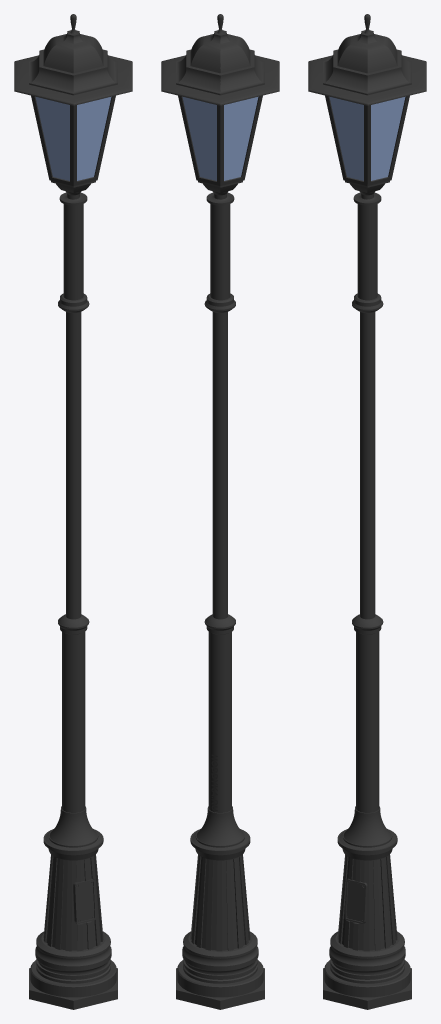
File: Streetlight.dae
3 renders of one model, left to right at view 1: azimuth 30°, elevation 25°; view 2: azimuth 150°, elevation 25°; view 3: azimuth 330°, elevation 25°, orthographic.
Parts seen in each view (by area): view 1: Group_3 (×5), group_1 (×7), group_6, group_5, group_3, group_7, group_4, group_2 (×2); view 2: Group_3 (×5), group_1 (×7), group_6, group_3, group_5, group_7, group_4; view 3: Group_3 (×5), group_1 (×7), group_6, group_5, group_3, group_7, group_4, group_2 (×2).
Boxes of the visible parts, bbox=[...] form: Group_3 (×5): bbox=[14, 30, 132, 185]; group_1 (×7): bbox=[30, 806, 116, 997]; group_6: bbox=[66, 312, 81, 619]; group_5: bbox=[62, 632, 85, 812]; group_3: bbox=[43, 854, 103, 951]; group_7: bbox=[63, 204, 83, 300]; group_4: bbox=[29, 968, 117, 1009]; group_2 (×2): bbox=[73, 878, 96, 923]; Group_3 (×5): bbox=[161, 30, 279, 185]; group_1 (×7): bbox=[177, 806, 263, 997]; group_6: bbox=[212, 312, 227, 619]; group_3: bbox=[190, 854, 250, 951]; group_5: bbox=[208, 632, 231, 812]; group_7: bbox=[210, 204, 230, 300]; group_4: bbox=[176, 968, 264, 1009]; Group_3 (×5): bbox=[308, 30, 426, 185]; group_1 (×7): bbox=[324, 806, 410, 997]; group_6: bbox=[360, 312, 375, 619]; group_5: bbox=[356, 632, 379, 812]; group_3: bbox=[337, 854, 397, 951]; group_7: bbox=[357, 204, 377, 300]; group_4: bbox=[323, 968, 411, 1009]; group_2 (×2): bbox=[344, 879, 367, 923].
Bounding box in the file's own units: 16.12 × 13.96 × 127.
